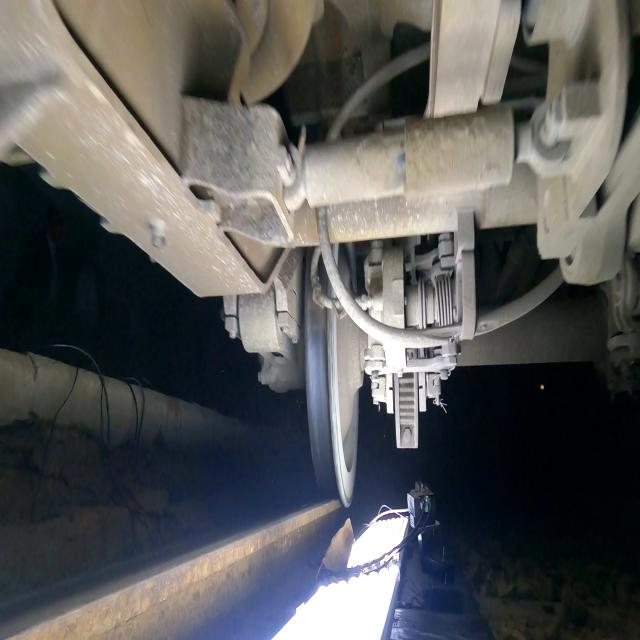Cracks-Scratches: (327, 310, 337, 436)
Shelling: (306, 287, 326, 341)
Wheel: (305, 249, 368, 507)
